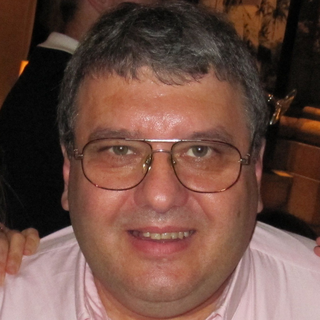eye: (181, 140, 225, 164), (96, 140, 140, 163)
